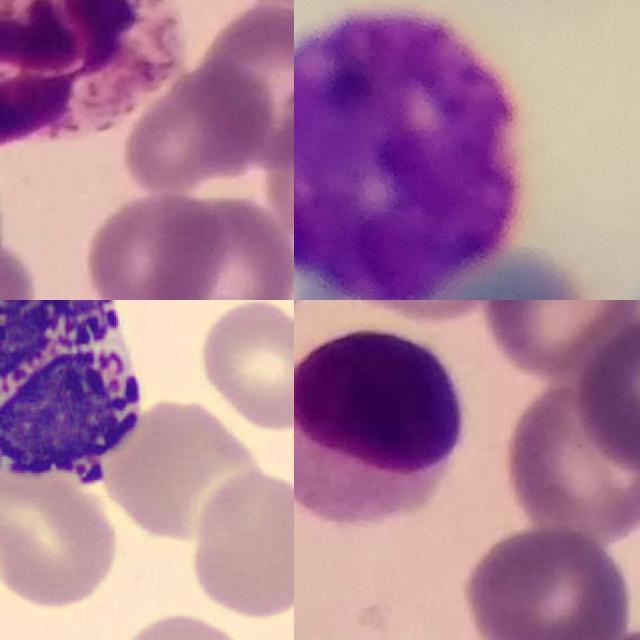Basophil: (294, 5, 519, 300), (0, 300, 157, 499)
Lymphocyte: (294, 331, 464, 525)
Neutrophil: (0, 0, 186, 142)
RBC: (0, 453, 128, 612), (187, 466, 294, 623), (194, 300, 294, 434), (110, 610, 249, 640)
